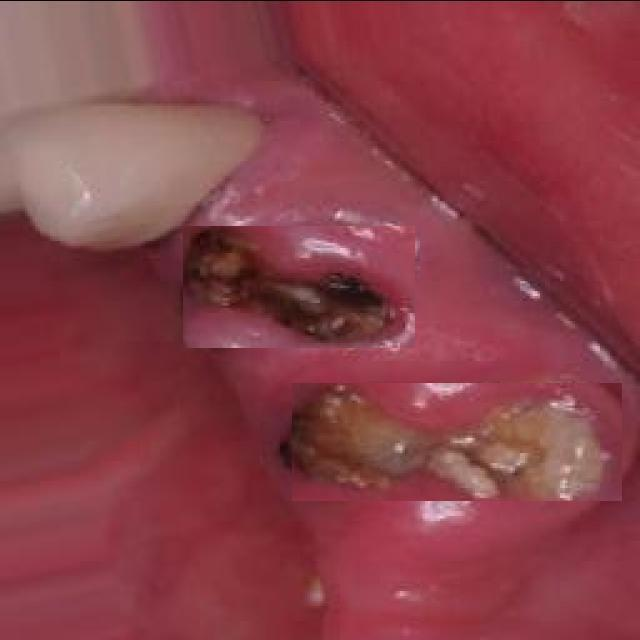decay: (293, 382, 623, 500), (183, 225, 415, 347)
